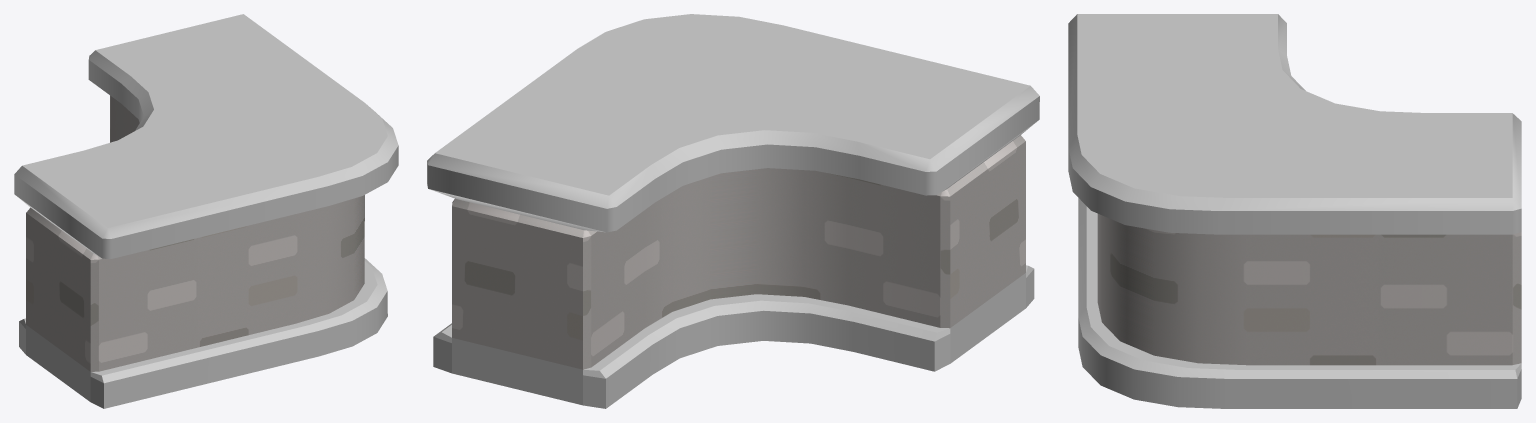
File: BrickWall_2_2.fbx
3 renders of one model, left to right at view 1: azimuth 30°, elevation 25°; view 2: azimuth 150°, elevation 25°; view 3: azimuth 270°, elevation 25°, orthographic. The views are drawn at different scales.
Parts seen in each view (by area): view 1: BrickWall_2_2; view 2: BrickWall_2_2; view 3: BrickWall_2_2.
Boxes of the visible parts, left/top/right/bottom form: BrickWall_2_2: left=14, top=14, right=398, bottom=408; BrickWall_2_2: left=427, top=14, right=1039, bottom=408; BrickWall_2_2: left=1068, top=14, right=1521, bottom=408.
Size of the model in its own units: 132 by 67.83 by 132.
